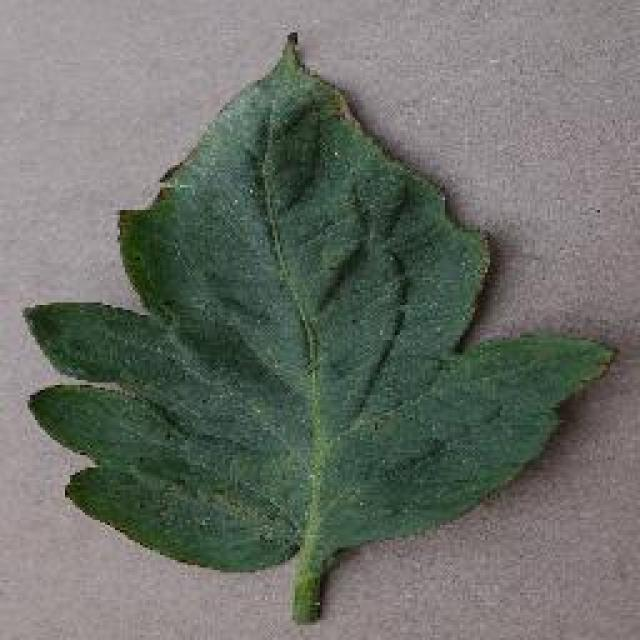Tom_Bacterial_spot: (216, 40, 375, 170)
